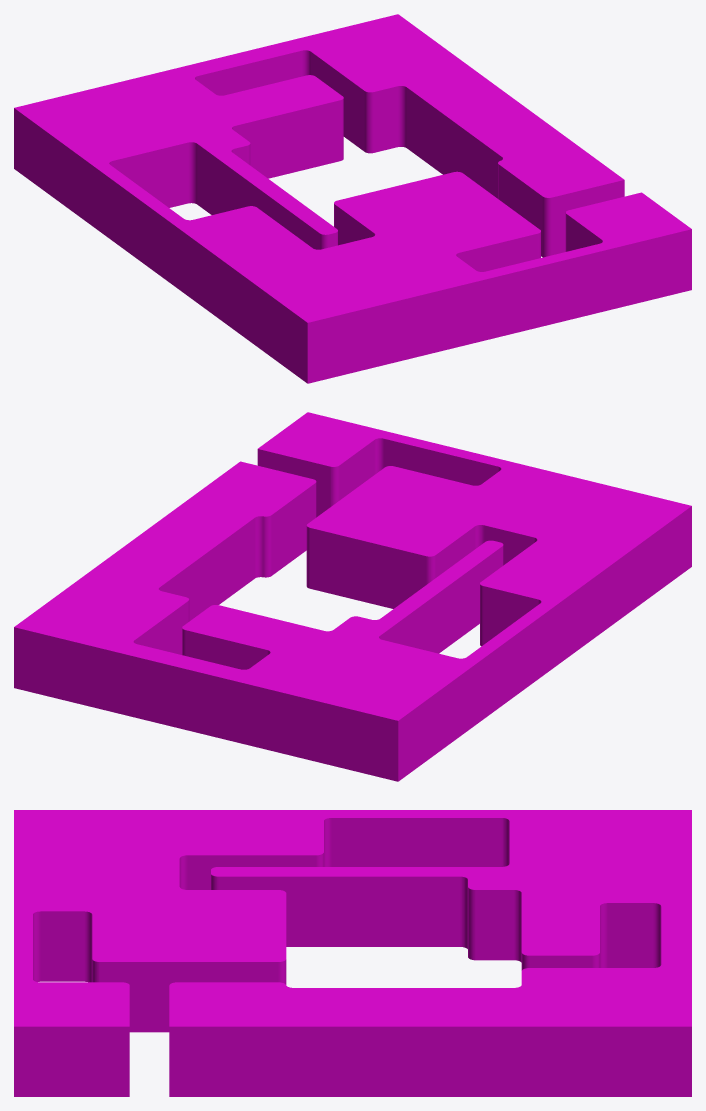
The model's file is cueva4.fbx.
The picture shows the model from 3 angles, top to bottom: view 1: azimuth 30°, elevation 25°; view 2: azimuth 150°, elevation 25°; view 3: azimuth 270°, elevation 25°; orthographic projection. The views are drawn at different scales.
Visible parts, largest first — view 1: Niv4c; view 2: Niv4c; view 3: Niv4c.
Part boxes in pixels (x1,y1,x2,y2): Niv4c: [14, 14, 691, 383]; Niv4c: [14, 412, 691, 781]; Niv4c: [14, 810, 691, 1096].
Size of the model in its own units: 7.39 by 9.79 by 1.12.
